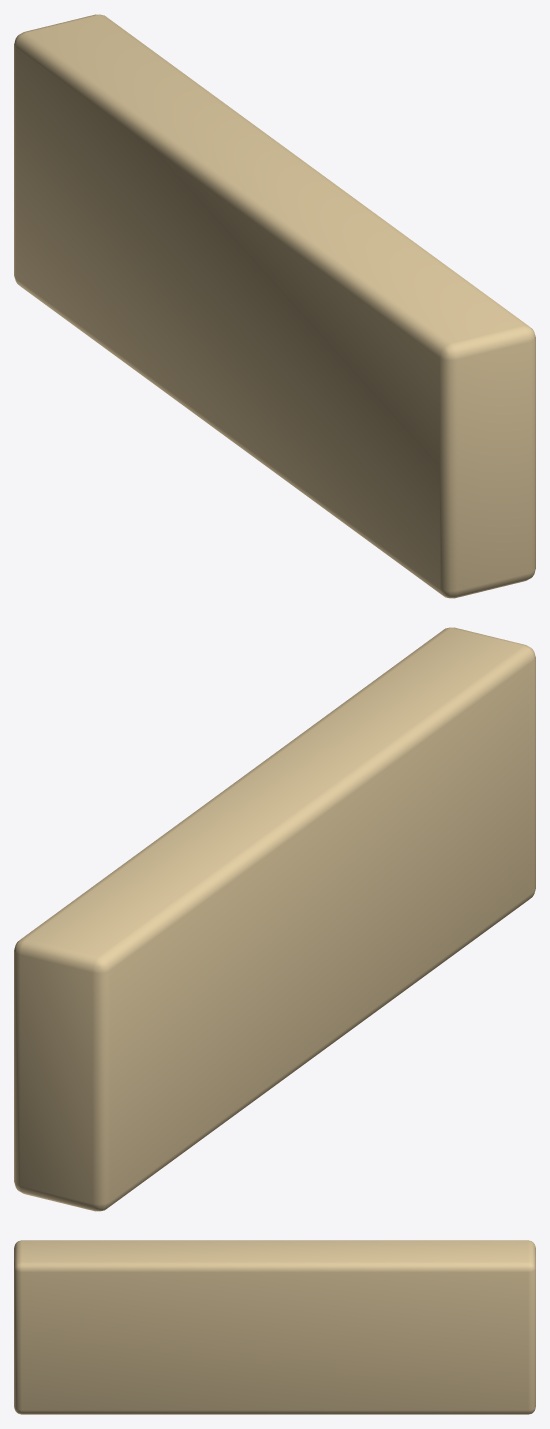
The model's file is puzzle_wall_z.glb.
The picture shows the model from 3 angles, top to bottom: view 1: azimuth 30°, elevation 25°; view 2: azimuth 150°, elevation 25°; view 3: azimuth 270°, elevation 25°; orthographic projection. The views are drawn at different scales.
Visible parts, largest first — view 1: puzzle_wall_z; view 2: puzzle_wall_z; view 3: puzzle_wall_z.
Part boxes in pixels (x1,y1,x2,y2): puzzle_wall_z: [14, 14, 535, 598]; puzzle_wall_z: [14, 627, 535, 1211]; puzzle_wall_z: [14, 1240, 535, 1414].
Bounding box in the file's own units: 0.035 × 0.09 × 0.28.
